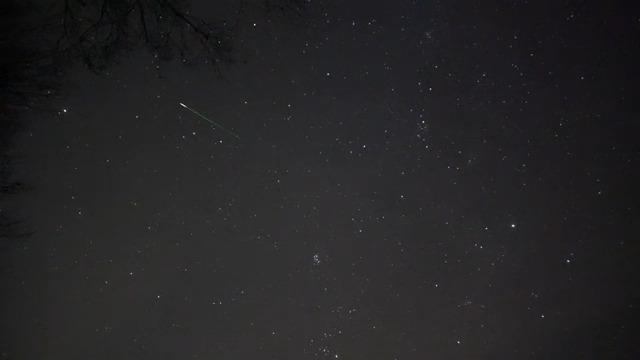meteorite: (161, 97, 247, 136)
